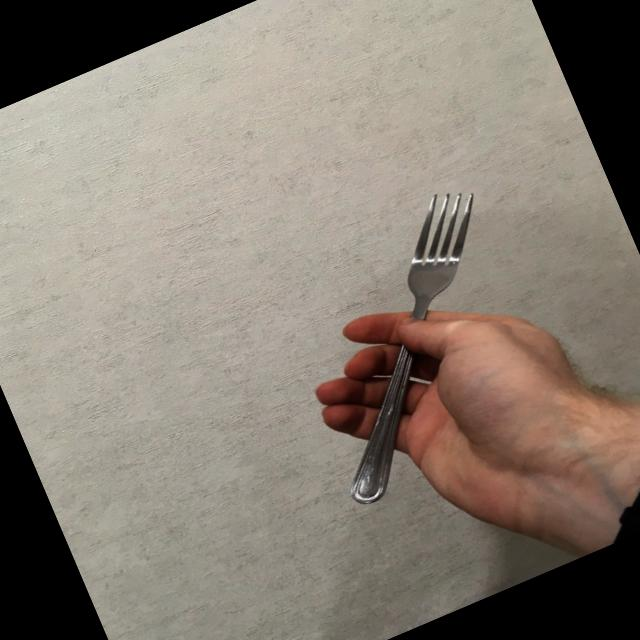fork: (252, 178, 570, 510)
